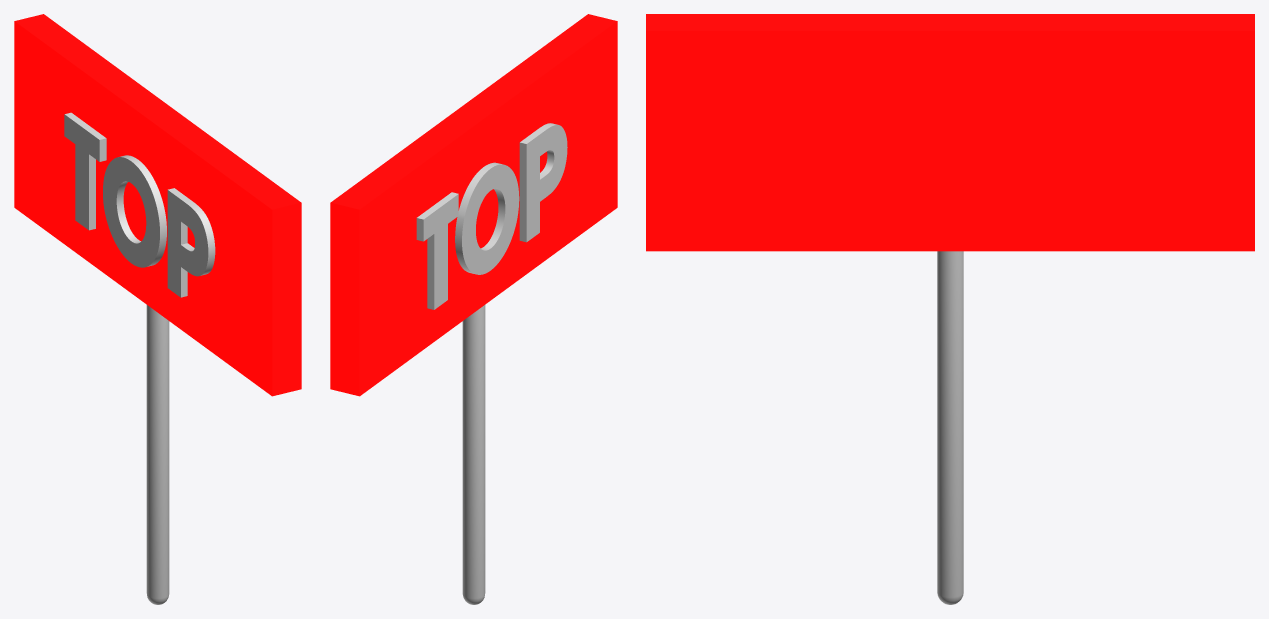
Rendered from top.fbx.
3 views of the same model, side by side, from view 1: azimuth 30°, elevation 25°; view 2: azimuth 150°, elevation 25°; view 3: azimuth 270°, elevation 25° (orthographic). The views are drawn at different scales.
Visible parts, largest first — view 1: Cube_1, Cylinder_1, Cap_1_2, Cap_1_3, Cap_1, O, P, T; view 2: Cube_1, Cylinder_1, Cap_1_2, Cap_1_3, Cap_1, O, P, T; view 3: Cube_1, Cylinder_1.
Boxes of the visible parts, x1,y1,x2,y2 form: Cube_1: (14,14,301,396); Cylinder_1: (146,305,169,604); Cap_1_2: (103,157,159,267); Cap_1_3: (167,190,208,297); Cap_1: (64,114,99,229); O: (116,155,166,266); P: (168,188,215,297); T: (65,112,106,230); Cube_1: (330,14,617,396); Cylinder_1: (462,305,485,604); Cap_1_2: (462,164,519,274); Cap_1_3: (526,125,567,241); Cap_1: (423,194,458,309); O: (455,162,505,273); P: (519,123,557,242); T: (416,192,458,309); Cube_1: (646,14,1254,251); Cylinder_1: (937,251,963,604).
Bounding box in the file's own units: 3.71 × 48.17 × 45.73.
